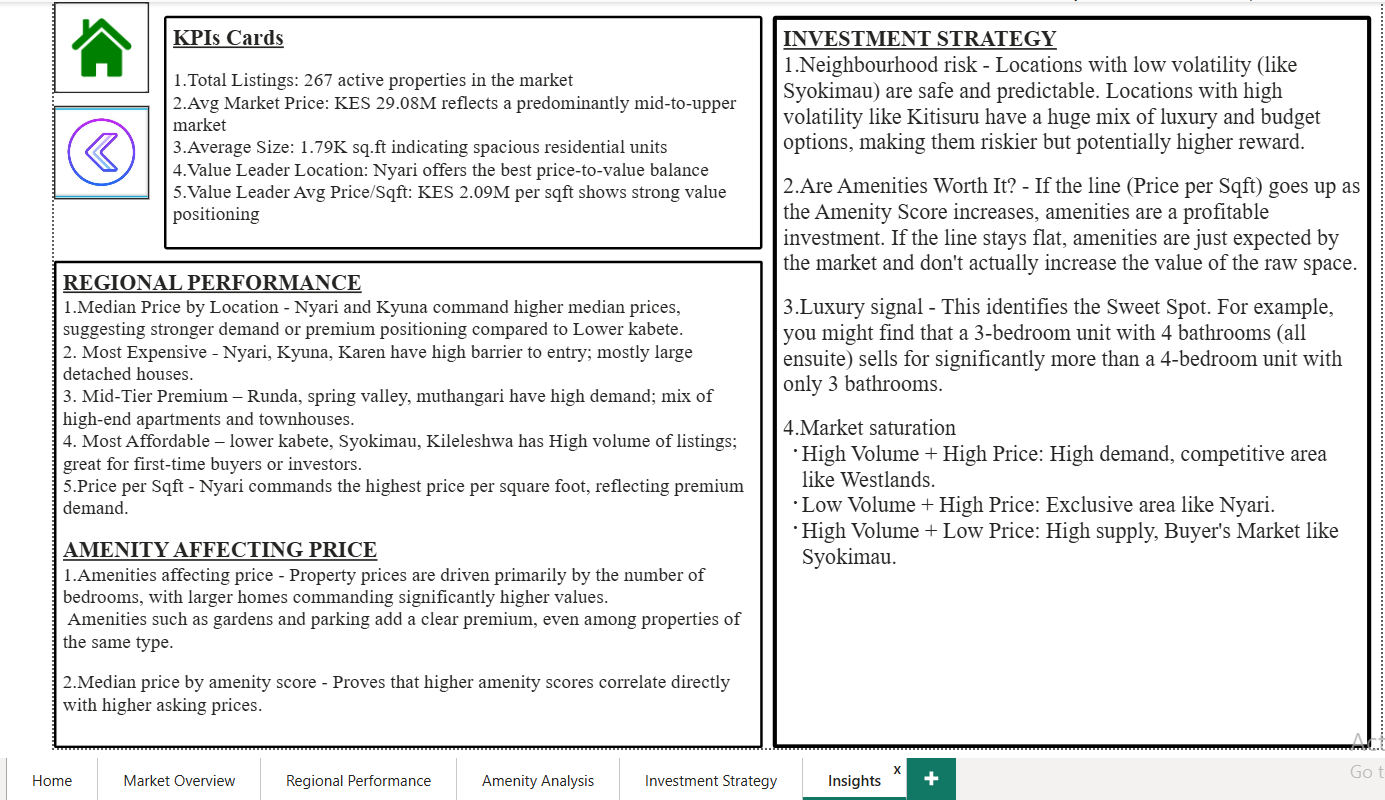

The dashboard page shown, as its layout file describes it:
{"tool":"powerbi","page":{"name":"Insights","canvas":[1280,720],"ordinal":5},"visuals":[{"type":"textbox","box":[0,249.7,684.1,470.5],"z":0},{"type":"image","box":[0,0,91.9,87.8],"z":1000},{"type":"image","box":[0,100.1,91.7,90.5],"z":2000},{"type":"textbox","box":[106.2,13.3,577.9,225.6],"z":3000},{"type":"textbox","box":[693.7,13.3,577.9,707],"z":4000}]}

Visuals, with their boxes in screenshot pixels (x1, y1, x2, y2):
textbox: <box>54,257,758,741</box>
image: <box>54,0,149,90</box>
image: <box>54,103,148,196</box>
textbox: <box>163,14,758,246</box>
textbox: <box>768,14,1363,741</box>
